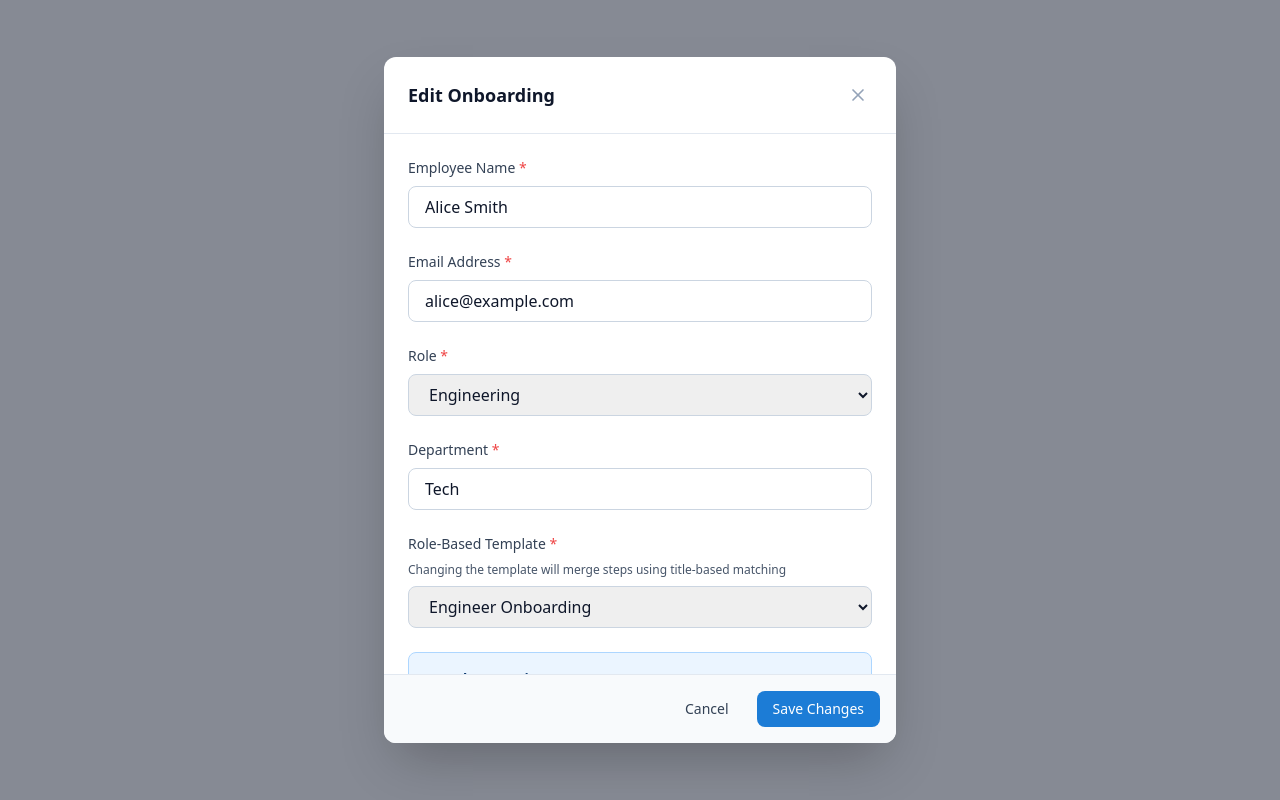
Test: EditHireModal › Validation › shows validation error for empty role
Select "-- Select a role --" in the dropdown named "employee role" at (640, 395), box x1=408 y1=374 x2=872 y2=416
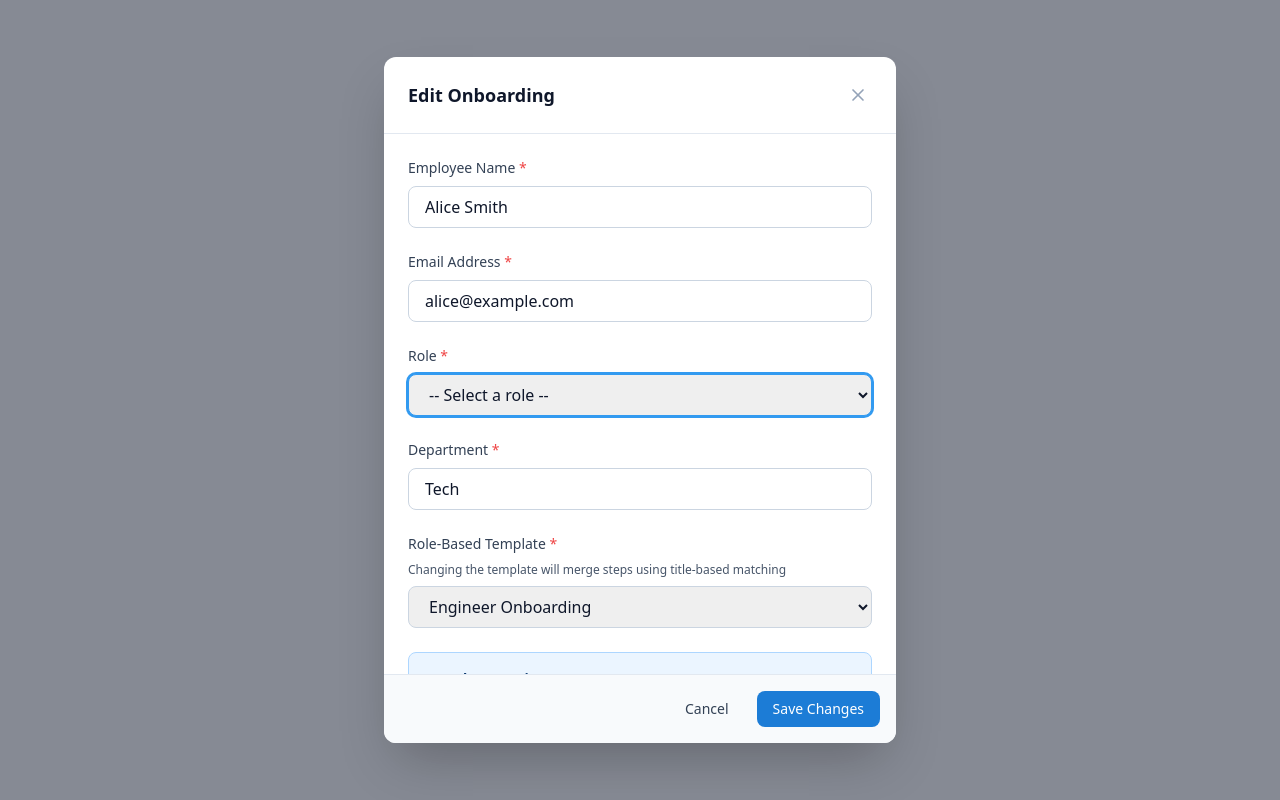
Click the button "Save Changes".
click(818, 709)  # box x1=757 y1=691 x2=880 y2=727
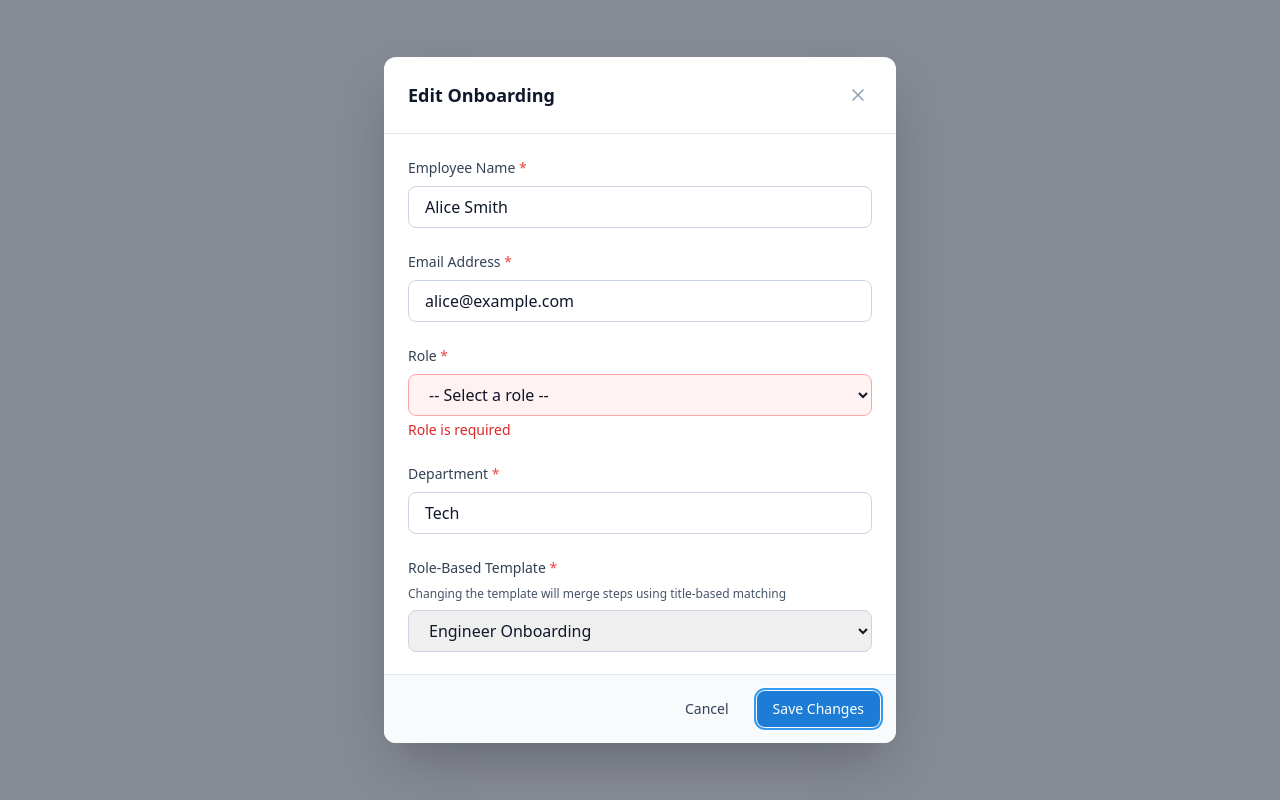
Check: the text "Role is required" is shown, box x1=408 y1=420 x2=511 y2=439
